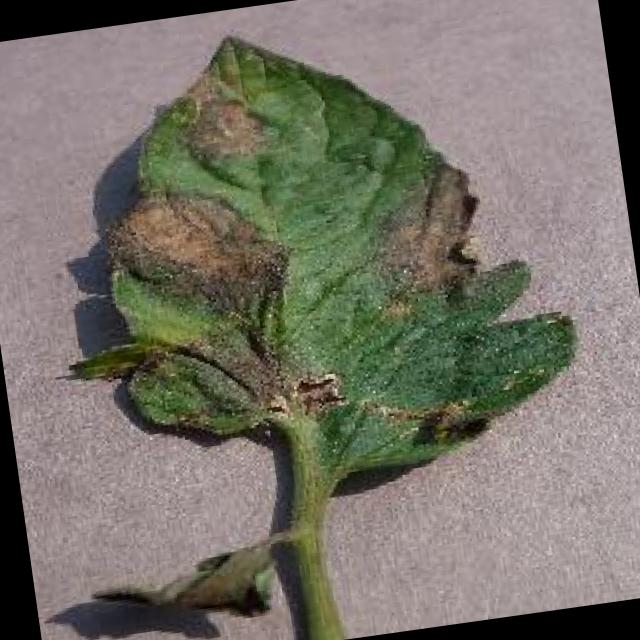Tomato_Late_Blight: (68, 182, 318, 460), (366, 146, 502, 324), (162, 40, 301, 176)
